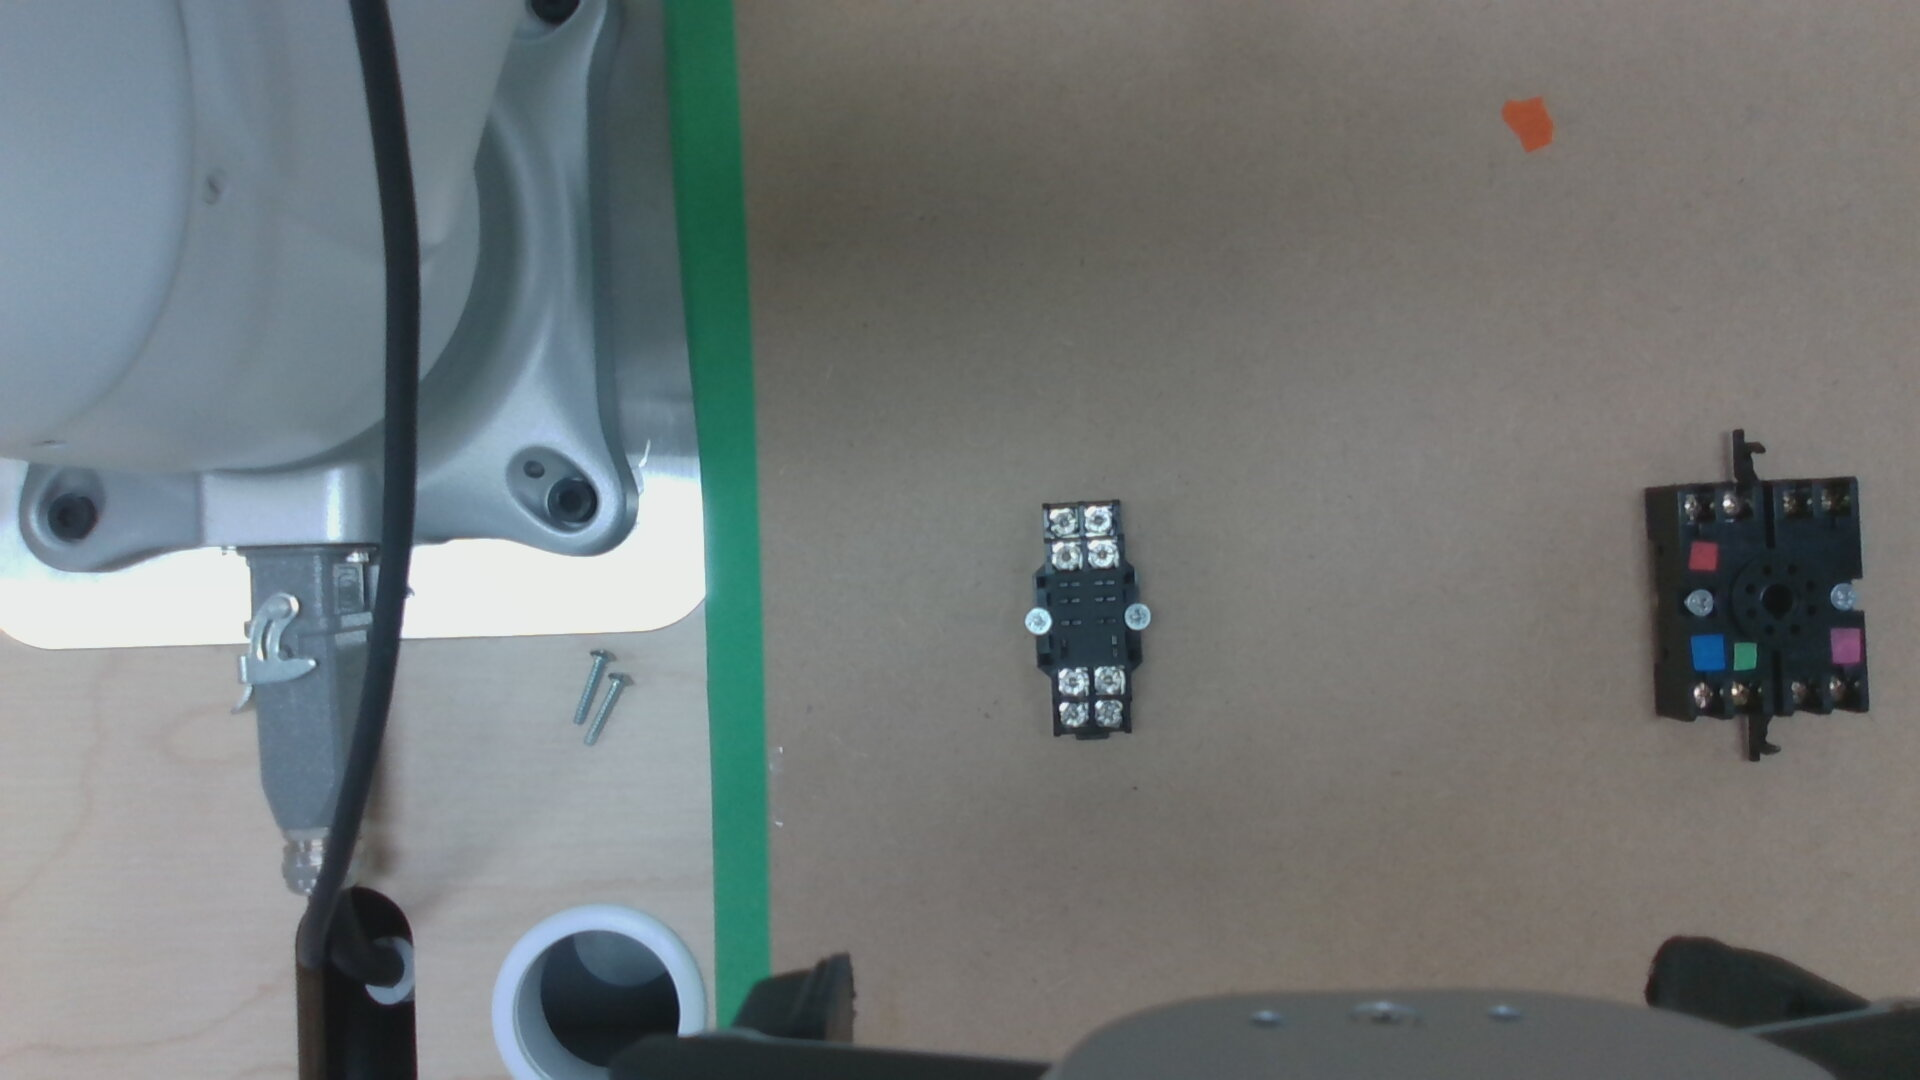relay 3: (1084, 506, 1112, 533)
relay 4: (1047, 512, 1077, 535)
relay 5: (1095, 700, 1124, 725)
relay 6: (1059, 702, 1088, 727)
relay 7: (1093, 669, 1124, 694)
relay 8: (1058, 670, 1089, 695)
